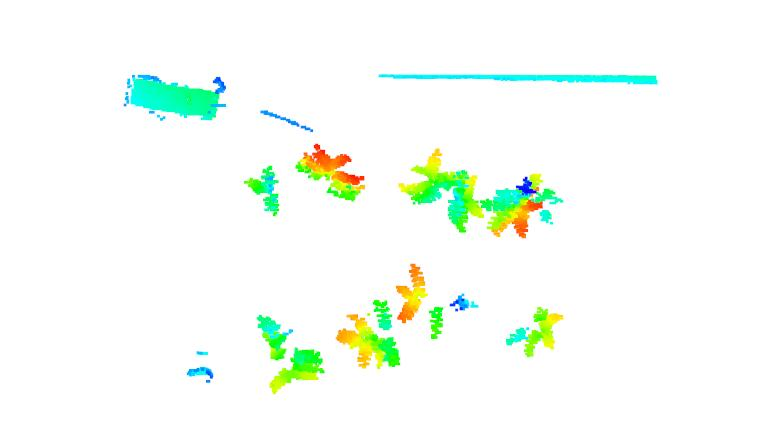chickpea: (397, 148, 486, 237), (392, 264, 479, 342), (253, 313, 327, 395), (334, 300, 404, 373), (484, 171, 560, 238), (294, 143, 365, 201), (503, 306, 566, 357), (244, 164, 285, 217)
